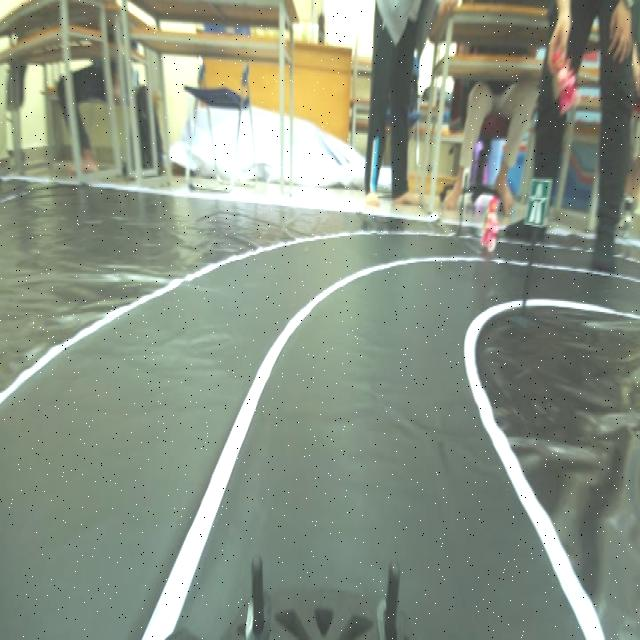highway_entry: (524, 170, 550, 230)
pedestrian: (474, 188, 506, 260)
